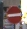No entry: (5, 5, 22, 24)
